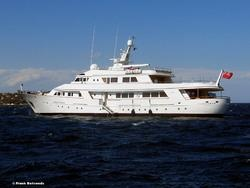yacht: (20, 35, 239, 116)
